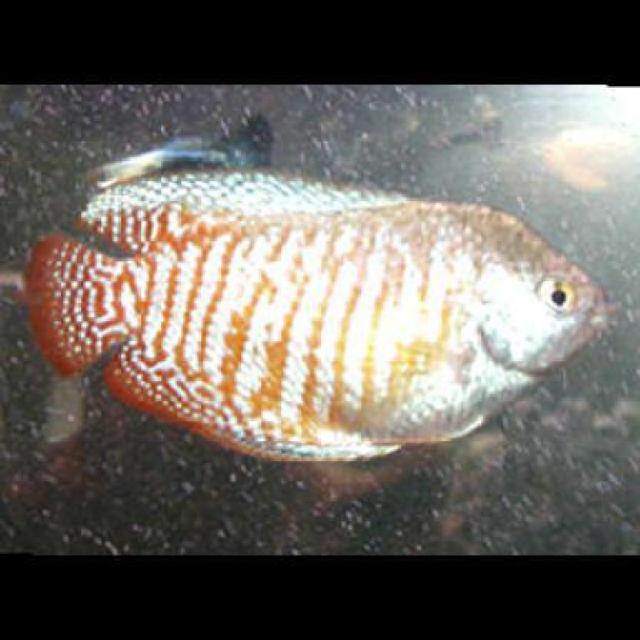Gourami: (18, 160, 619, 462)
